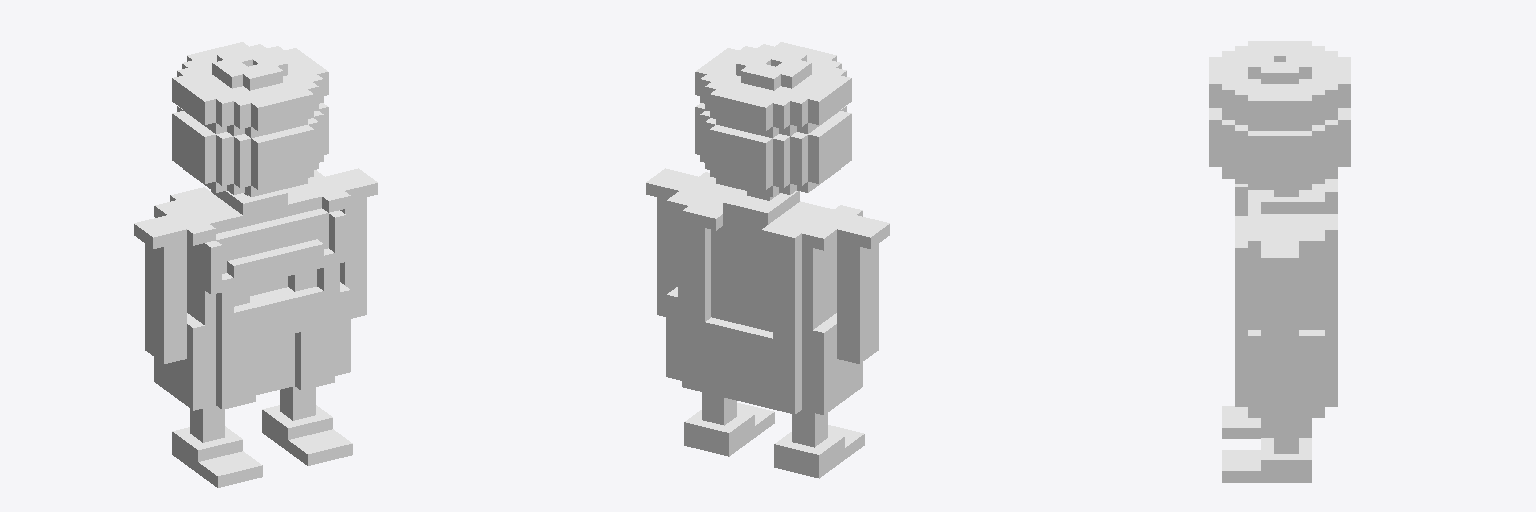
File: seller1.obj
The picture shows the model from 3 angles: view 1: azimuth 30°, elevation 25°; view 2: azimuth 150°, elevation 25°; view 3: azimuth 270°, elevation 25°; orthographic projection.
Visible parts, largest first — view 1: seller1; view 2: seller1; view 3: seller1.
Part boxes in pixels (x1,y1,x2,y2): seller1: (134, 42, 377, 487); seller1: (646, 42, 889, 478); seller1: (1209, 41, 1350, 482).
Bounding box in the file's own units: 20 × 33 × 11.